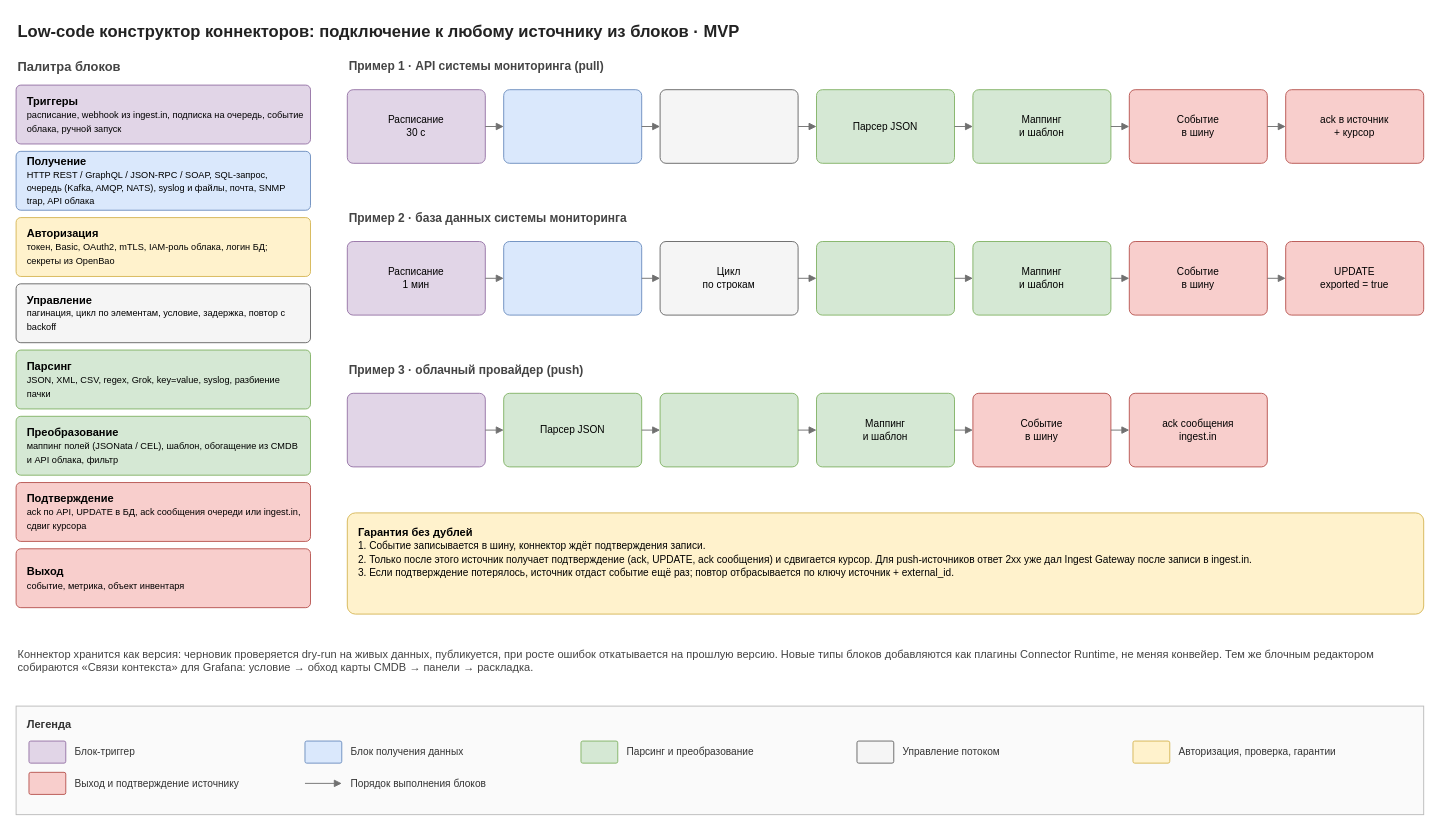
The diagram is 1440 pixels wide and 831 high, and some of its shapes have lost their labels. The shapes that lost their labels are listed below. From the top down, each one's centre as x and y in pixels, then its label:
pixel 572 126: HTTP-запрос since={{cursor}} + OAuth2
pixel 728 126: Пагинация
pixel 572 278: SQL: WHERE id > :cursor LIMIT 500
pixel 885 278: Парсер regex поля message
pixel 415 429: Событие облака из ingest.in
pixel 728 429: Обогащение: теги по ID через API облака
